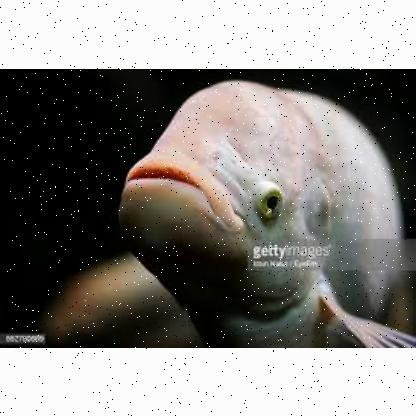gurame: (110, 72, 406, 346)
